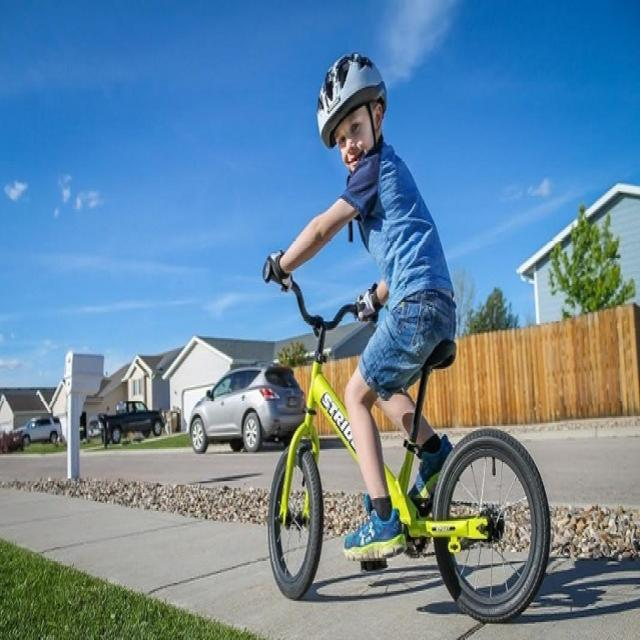Helmet: (311, 40, 393, 179)
